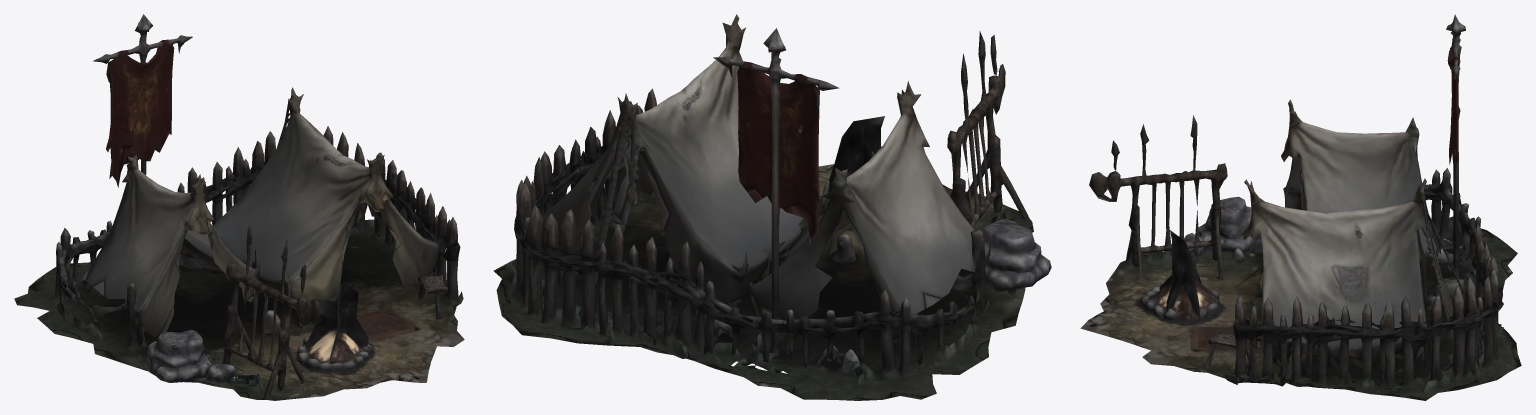
The model's file is mercenaries.glb.
3 renders of one model, left to right at view 1: azimuth 30°, elevation 25°; view 2: azimuth 150°, elevation 25°; view 3: azimuth 270°, elevation 25°, orthographic. The views are drawn at different scales.
Visible parts, largest first — view 1: geometry_0; view 2: geometry_0; view 3: geometry_0.
Part boxes in pixels (x1,y1,x2,y2): geometry_0: (14,14,464,400); geometry_0: (493,14,1051,400); geometry_0: (1080,14,1521,400).
Bounding box in the file's own units: 0.961 × 0.653 × 0.9761.
1 material, 1 textured.
